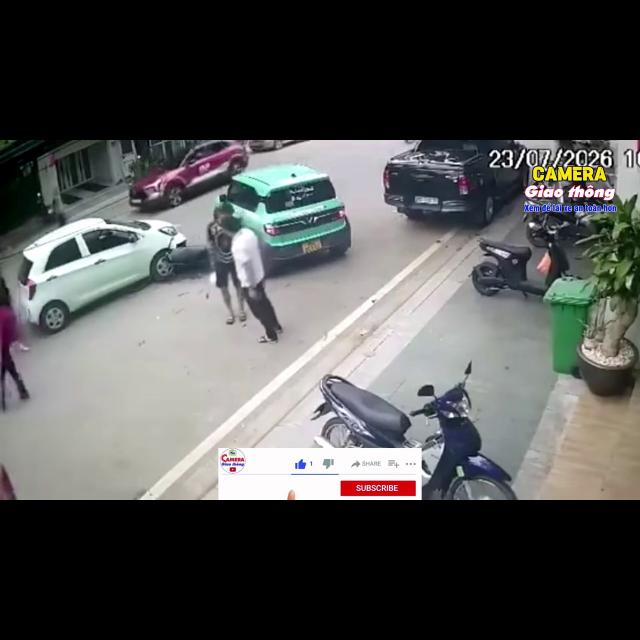car: (18, 218, 186, 333), (217, 164, 351, 274), (383, 140, 529, 225), (129, 140, 248, 207), (247, 140, 302, 151)
motorcycle: (312, 362, 516, 499), (471, 222, 574, 295), (523, 212, 593, 247), (524, 208, 594, 241), (37, 193, 66, 226), (37, 193, 55, 223)
